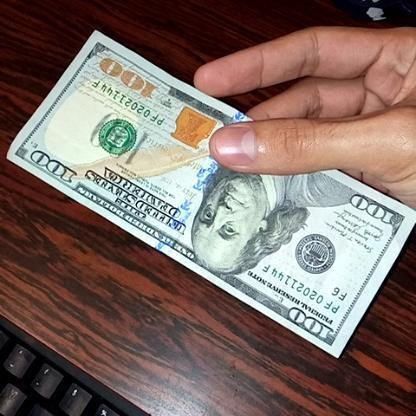one_hundred-front: (3, 24, 407, 333)
